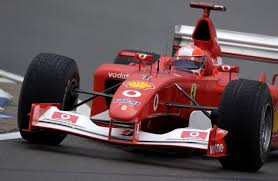FormulaOneCar: (16, 1, 278, 172)
